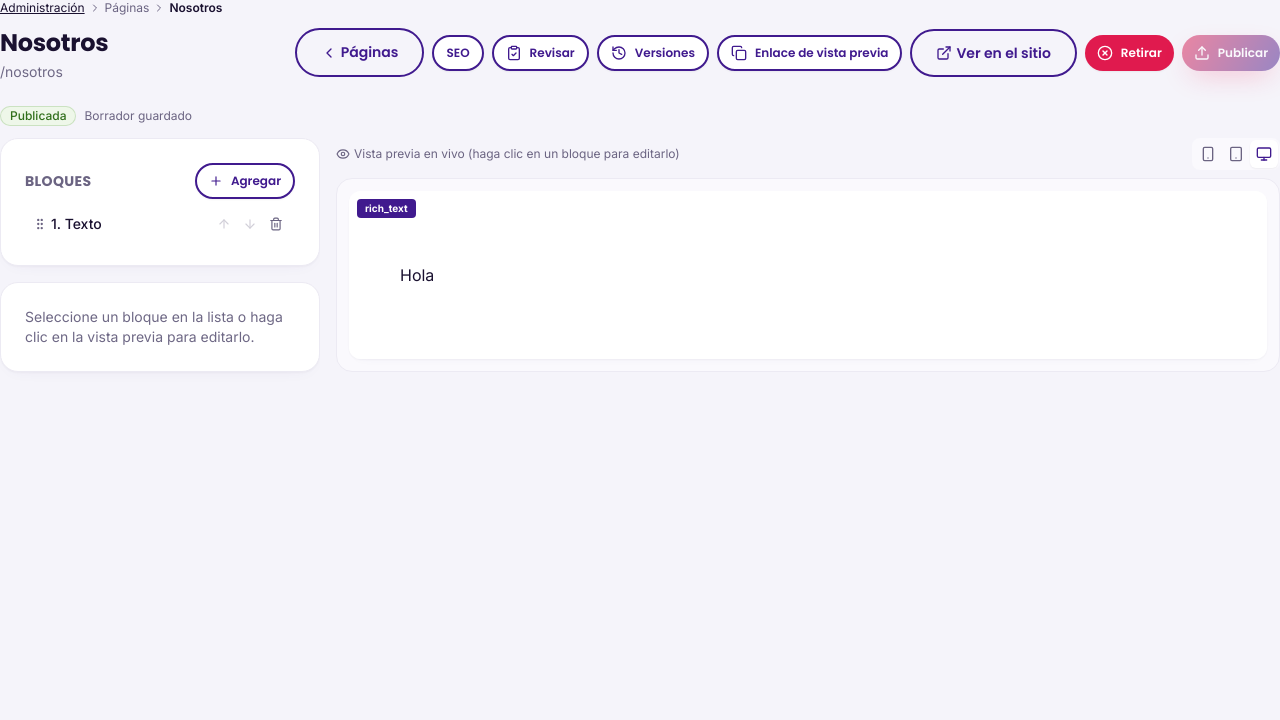
Test: AdminPageEditor versions › shows an error (not "aún no se ha publicado") when versions fail to load
Click the button "Versiones" at (653, 52), box [597,34,709,70]
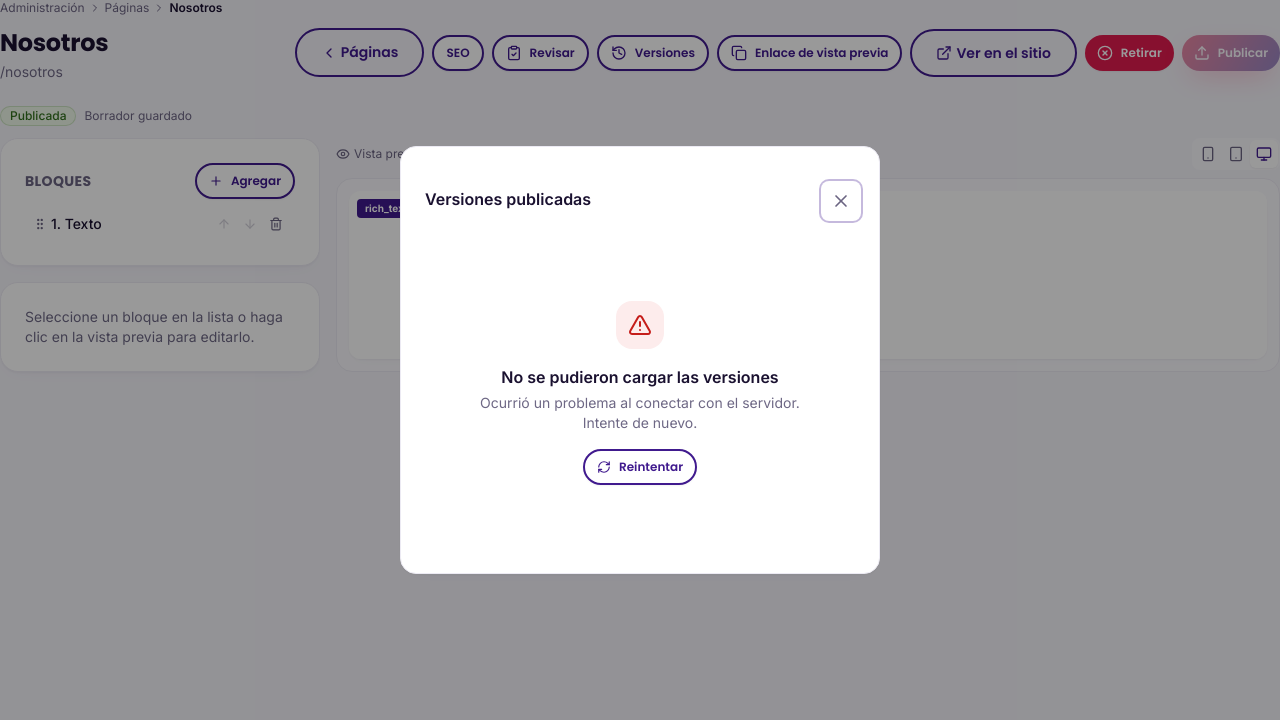
expect the text "No se pudieron cargar las versiones" is shown: met, box [501,365,779,389]
